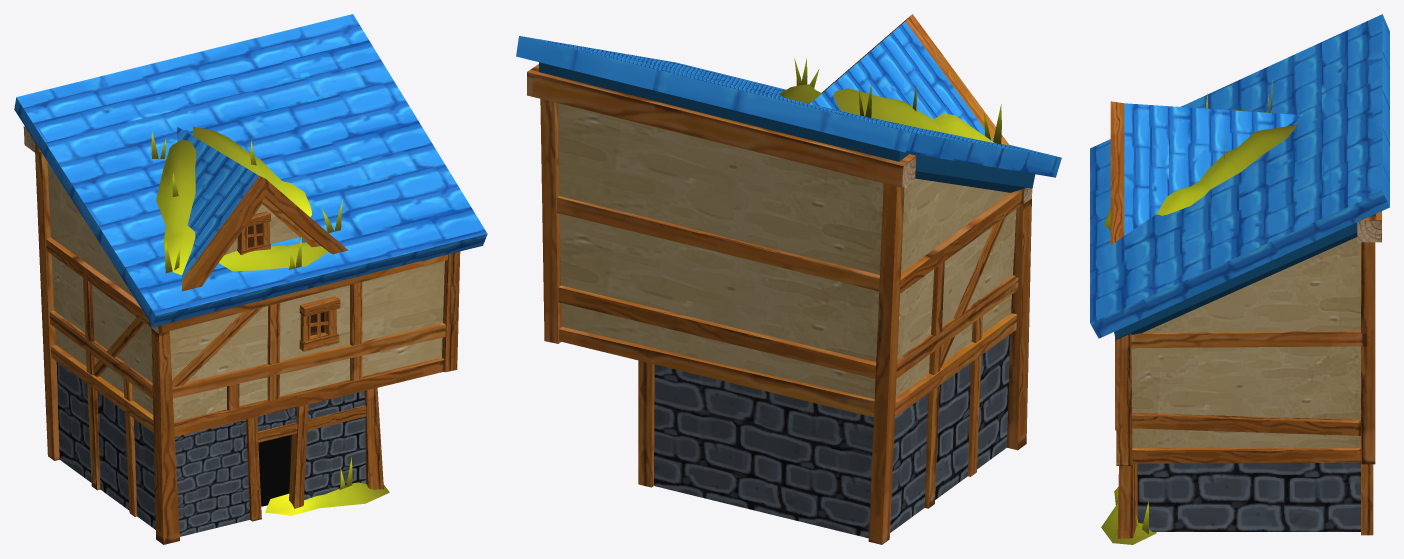
The model's file is buildings_01.fbx.
The picture shows the model from 3 angles, left to right: view 1: azimuth 30°, elevation 25°; view 2: azimuth 150°, elevation 25°; view 3: azimuth 270°, elevation 25°; orthographic projection. The views are drawn at different scales.
Visible parts, largest first — view 1: hut_01, hut_01_grass; view 2: hut_01, hut_01_grass; view 3: hut_01, hut_01_grass.
Part boxes in pixels (bbox=[...]): hut_01: bbox=[14, 14, 487, 544]; hut_01_grass: bbox=[151, 126, 389, 515]; hut_01: bbox=[516, 14, 1061, 544]; hut_01_grass: bbox=[779, 58, 1001, 144]; hut_01: bbox=[1090, 14, 1389, 538]; hut_01_grass: bbox=[1101, 80, 1297, 544].
Size of what is drawn, in the model's own units: 7.93 by 8.25 by 5.63.
